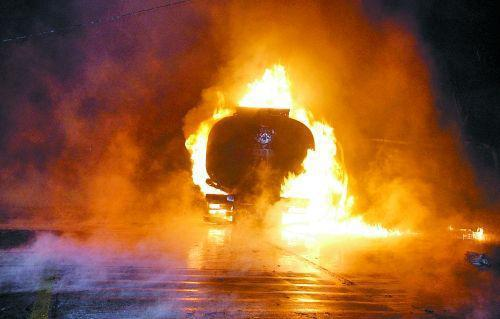fire: (171, 70, 381, 240)
